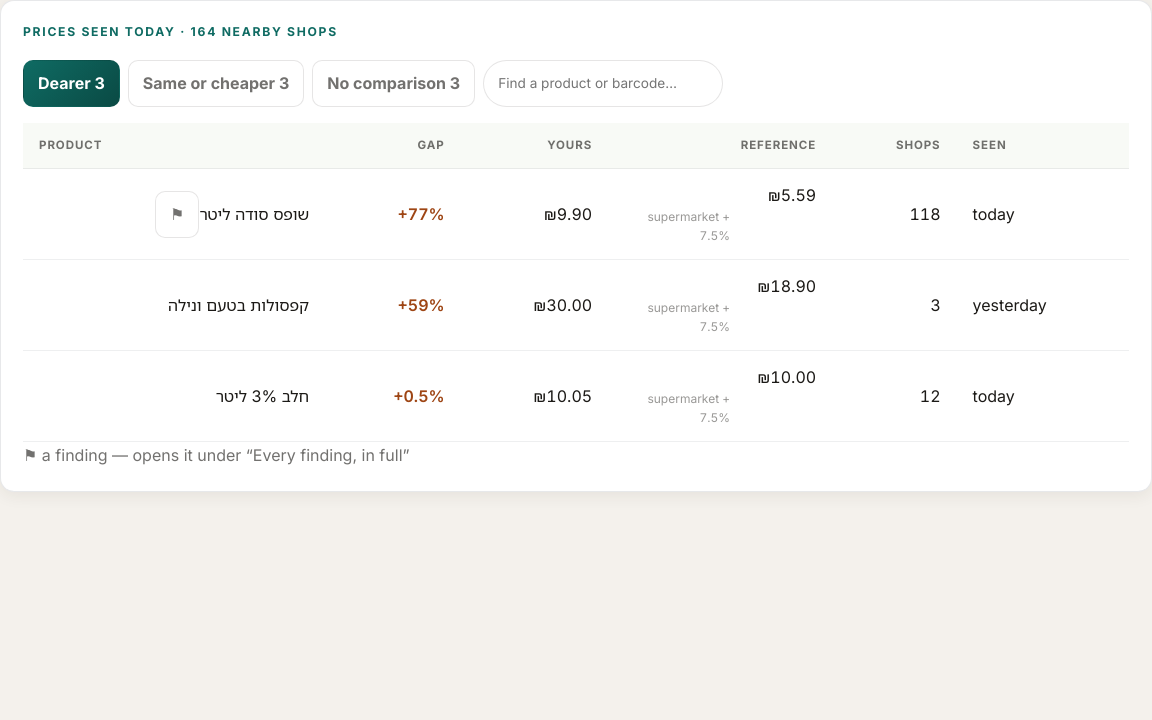
Test: the Prices page, on the published comparison › finds a product by name across all three tabs
The width and height of the screenshot is (1152, 720).
Step 1. Type "נביעות" into the search field → (603,83), box [483, 60, 723, 107]
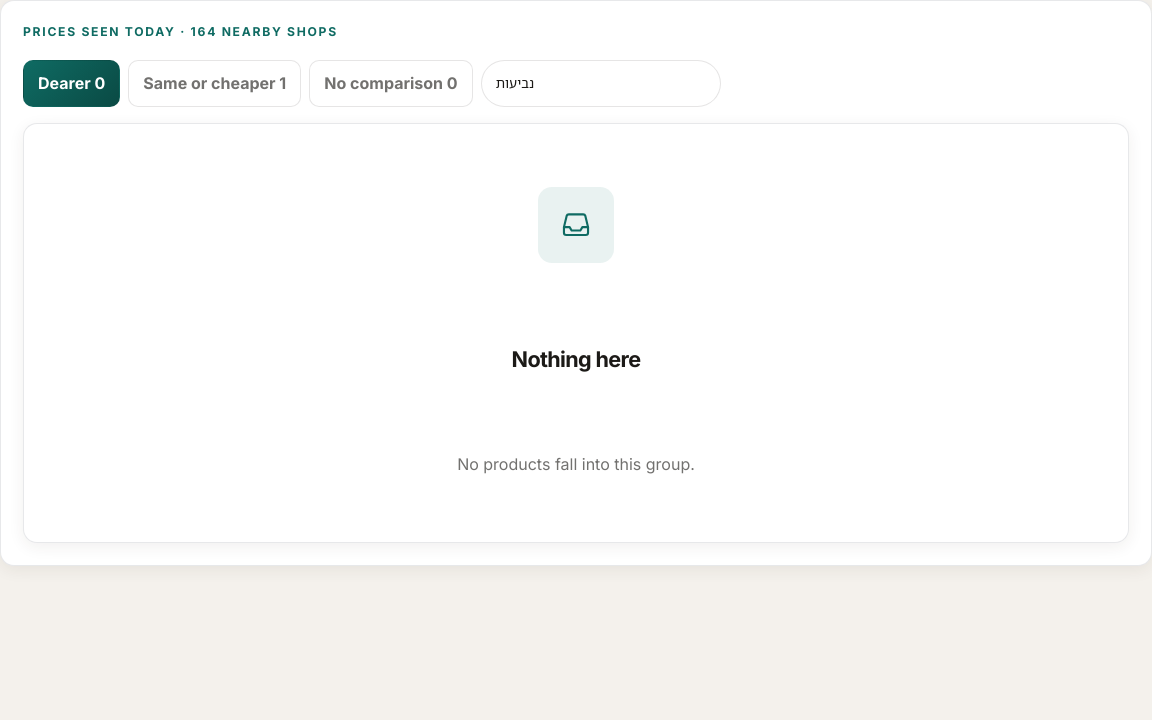
Expected: the button "Dearer 0" is shown, [23, 60, 120, 107]
